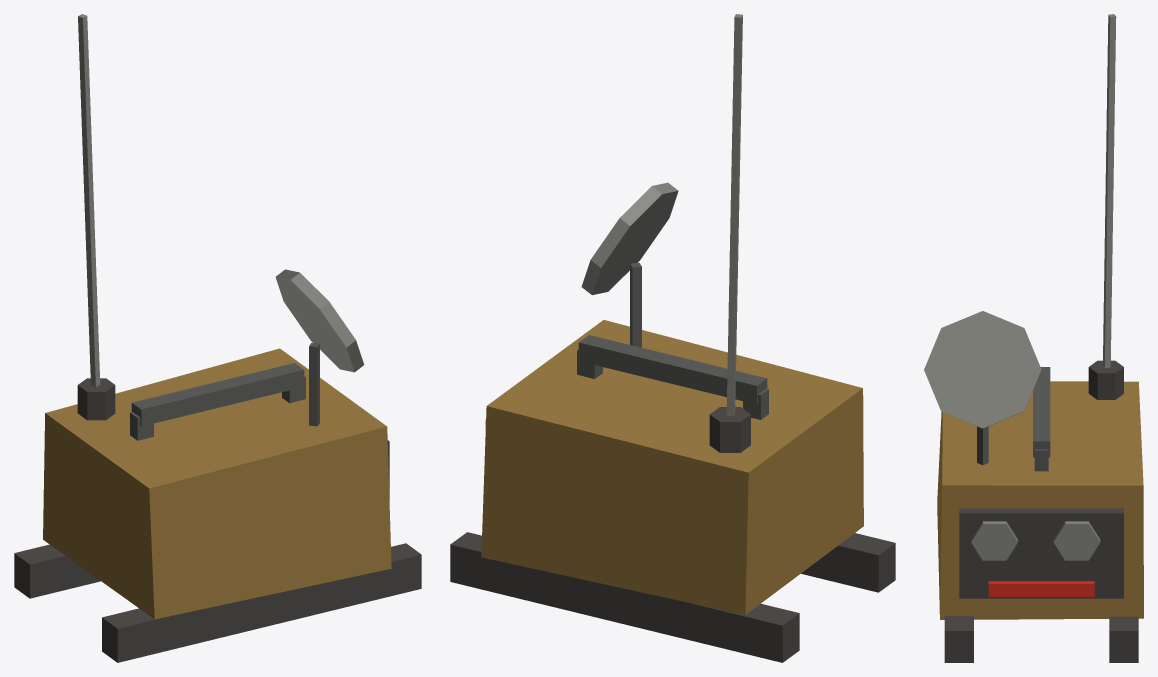
Rendered from scanner.glb.
3 renders of one model, left to right at view 1: azimuth 30°, elevation 25°; view 2: azimuth 150°, elevation 25°; view 3: azimuth 270°, elevation 25°, orthographic. The views are drawn at different scales.
Parts seen in each view (by area): view 1: scanner; view 2: scanner; view 3: scanner.
Part boxes in pixels (x1,y1,x2,y2): scanner: [14, 14, 421, 662]; scanner: [450, 14, 895, 662]; scanner: [924, 14, 1143, 662].
Size of the model in its own units: 0.56 by 1 by 0.3739.
